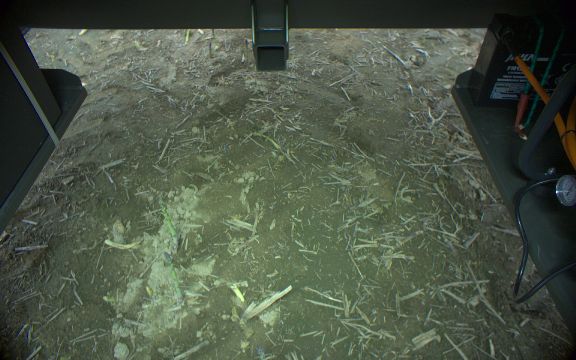aspa: (163, 252, 186, 308), (158, 197, 181, 248), (204, 40, 217, 63), (242, 37, 252, 65)
